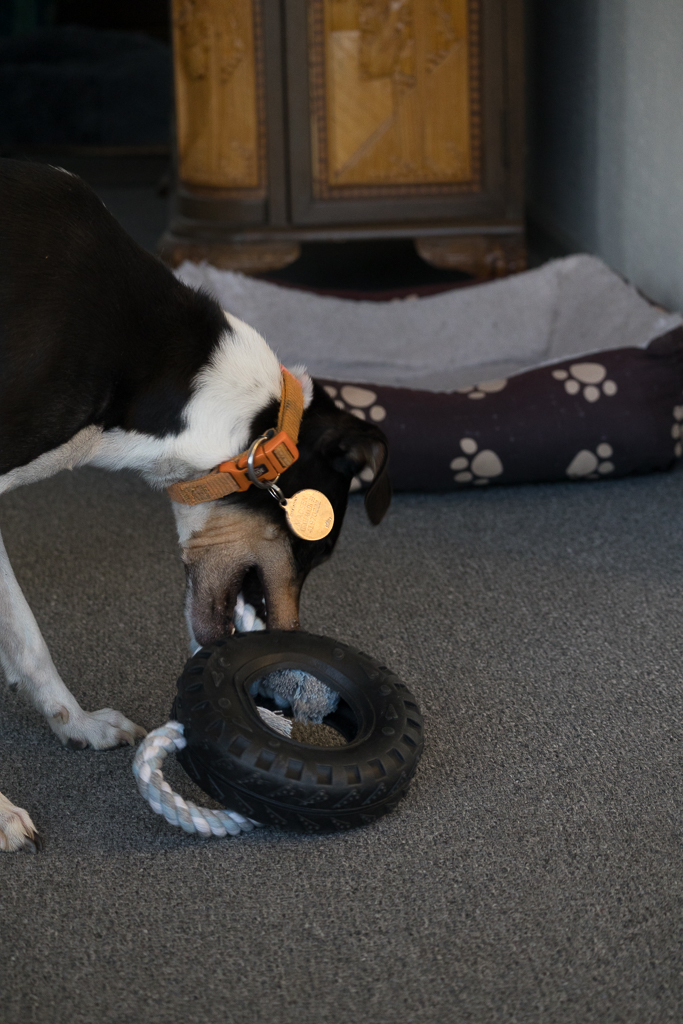Dog: (0, 114, 403, 877)
